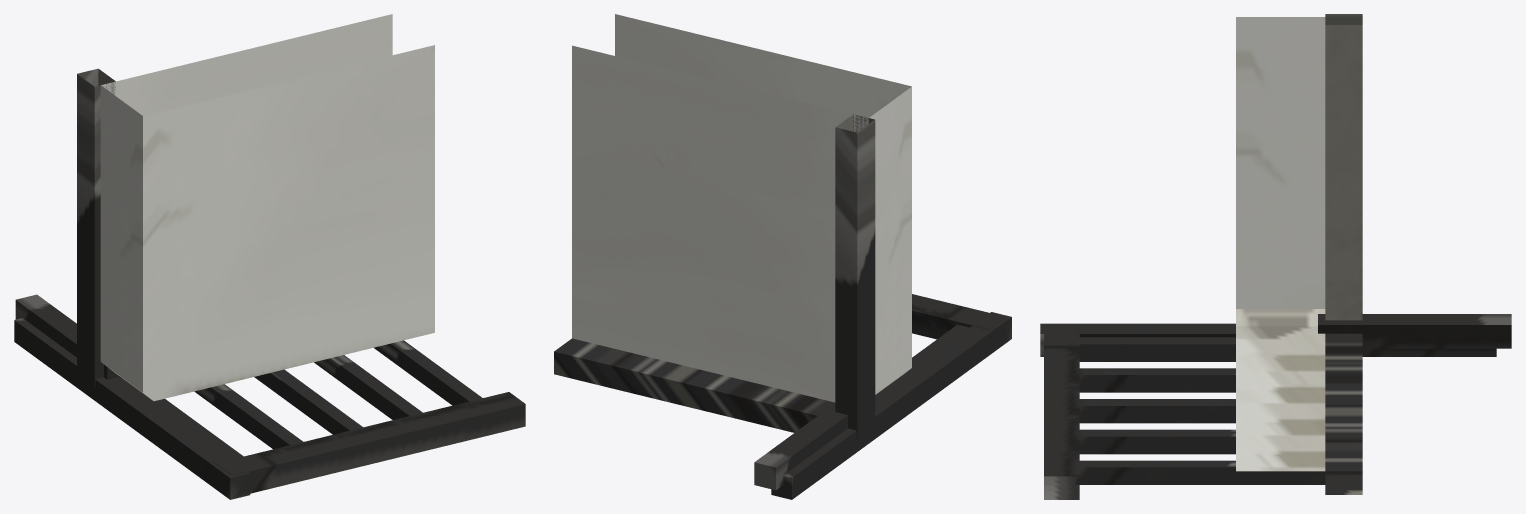
The model's file is pz_bed_bedding_01_large_fancy_0_0.obj.
3 views of the same model, side by side, from view 1: azimuth 30°, elevation 25°; view 2: azimuth 150°, elevation 25°; view 3: azimuth 270°, elevation 25° (orthographic). The views are drawn at different scales.
Bounding box in the file's own units: 0.975 × 0.985 × 1.26.
Materials: 1 (1 with a texture image).
